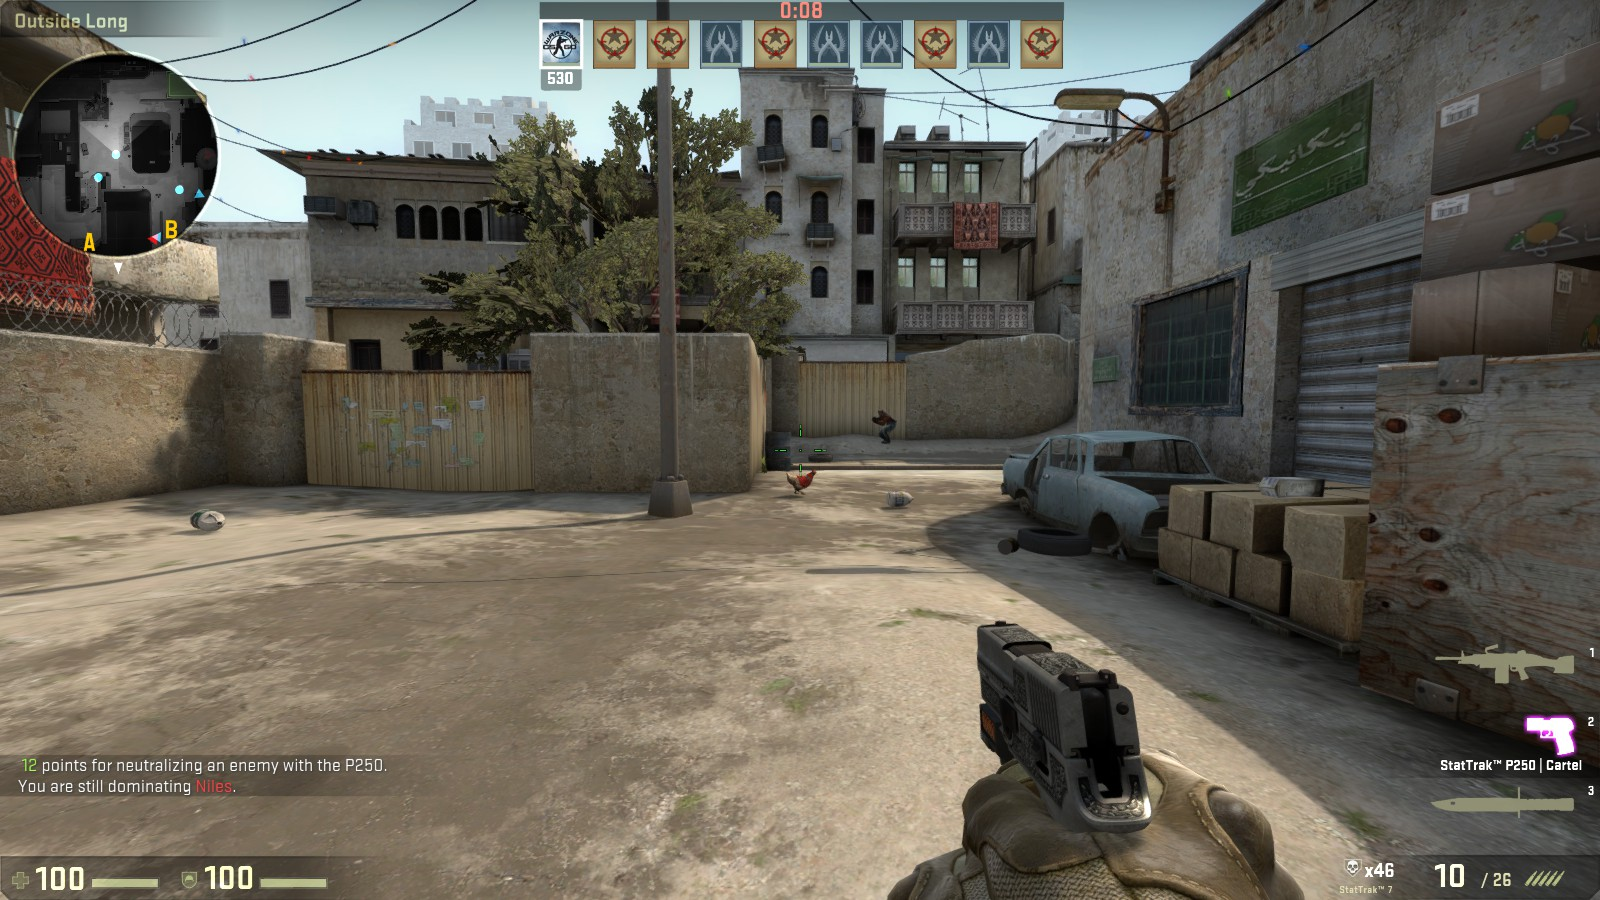t: (873, 408, 896, 442)
